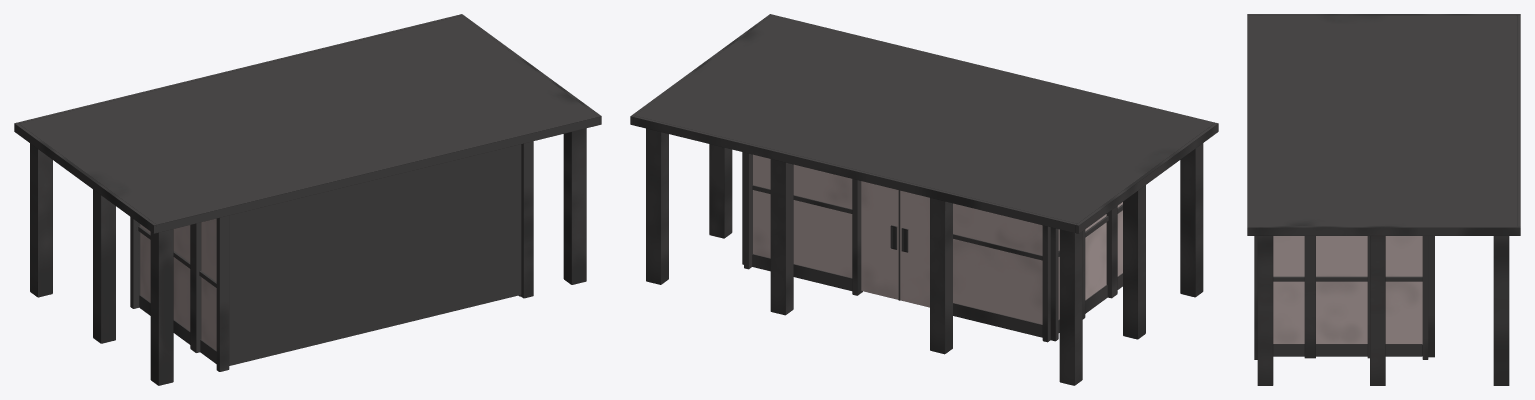
The model's file is AptBuilding02_DoorFB.fbx.
The picture shows the model from 3 angles, left to right: view 1: azimuth 30°, elevation 25°; view 2: azimuth 150°, elevation 25°; view 3: azimuth 270°, elevation 25°; orthographic projection. The views are drawn at different scales.
Parts seen in each view (by area): view 1: cuboid_3, cuboid_12, cuboid_8, cuboid_9, cuboid_11, cuboid_5, cuboid_19, cuboid_21, cuboid_2, cuboid_27, cuboid, cuboid_18 (+2 smaller); view 2: cuboid_3, cuboid_12, cuboid, cuboid_5, cuboid_7, cuboid_4, cuboid_6, cuboid_8, cuboid_11, cuboid_10, cuboid_2, cuboid_34 (+7 smaller); view 3: cuboid_3, cuboid_12, cuboid_1, cuboid_4, cuboid_9, cuboid_10, cuboid_36, cuboid_25, cuboid_20, cuboid_16, cuboid, cuboid_23 (+3 smaller).
Part boxes in pixels (left/top/right/bottom): cuboid_3: left=19, top=16, right=599, bottom=232; cuboid_12: left=140, top=144, right=521, bottom=365; cuboid_8: left=150, top=229, right=173, bottom=385; cuboid_9: left=563, top=128, right=586, bottom=284; cuboid_11: left=93, top=189, right=115, bottom=343; cuboid_5: left=30, top=143, right=52, bottom=297; cuboid_19: left=216, top=215, right=229, bottom=371; cuboid_21: left=520, top=141, right=533, bottom=298; cuboid_2: left=14, top=122, right=156, bottom=233; cuboid_27: left=190, top=222, right=201, bottom=352; cuboid: left=17, top=15, right=460, bottom=123; cuboid_18: left=130, top=217, right=140, bottom=308; cuboid_3: left=635, top=14, right=1214, bottom=223; cuboid_12: left=753, top=154, right=1122, bottom=324; cuboid: left=633, top=116, right=1076, bottom=233; cuboid_5: left=1059, top=229, right=1082, bottom=385; cuboid_7: left=770, top=159, right=793, bottom=315; cuboid_4: left=646, top=128, right=668, bottom=284; cuboid_6: left=930, top=198, right=952, bottom=354; cuboid_8: left=1180, top=143, right=1203, bottom=297; cuboid_11: left=1123, top=185, right=1145, bottom=339; cuboid_10: left=709, top=144, right=732, bottom=238; cuboid_2: left=1076, top=123, right=1218, bottom=233; cuboid_34: left=953, top=303, right=1042, bottom=337; cuboid_3: left=1247, top=15, right=1517, bottom=227; cuboid_12: left=1273, top=236, right=1422, bottom=344; cuboid_1: left=1247, top=226, right=1520, bottom=235; cuboid_4: left=1493, top=236, right=1509, bottom=385; cuboid_9: left=1257, top=236, right=1273, bottom=385; cuboid_10: left=1370, top=236, right=1385, bottom=385; cuboid_36: left=1273, top=344, right=1422, bottom=356; cuboid_25: left=1304, top=236, right=1315, bottom=358; cuboid_20: left=1422, top=236, right=1428, bottom=359; cuboid_16: left=1428, top=236, right=1434, bottom=357; cuboid: left=1517, top=15, right=1520, bottom=227; cuboid_23: left=1273, top=276, right=1422, bottom=281.
Bounding box in the file's own units: 281 × 100 × 152.
Materials: 1 (1 with a texture image).
